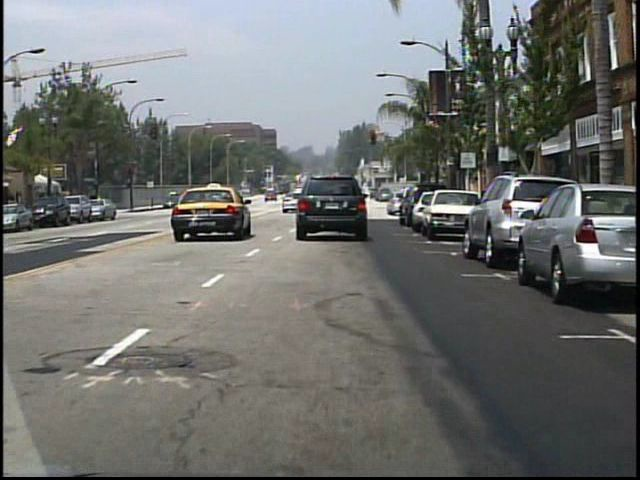person: (209, 188, 223, 212), (340, 189, 354, 213)
